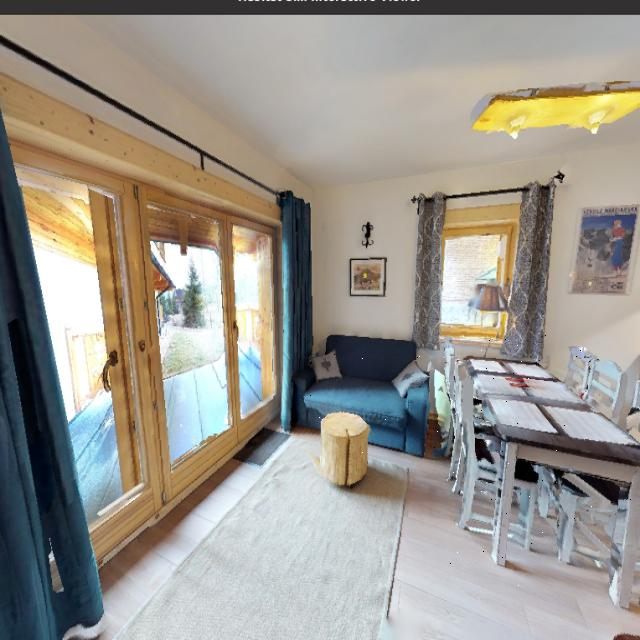chair: (532, 362, 640, 564), (450, 350, 521, 564)
sofa: (300, 333, 445, 462)
table: (455, 330, 640, 596)
